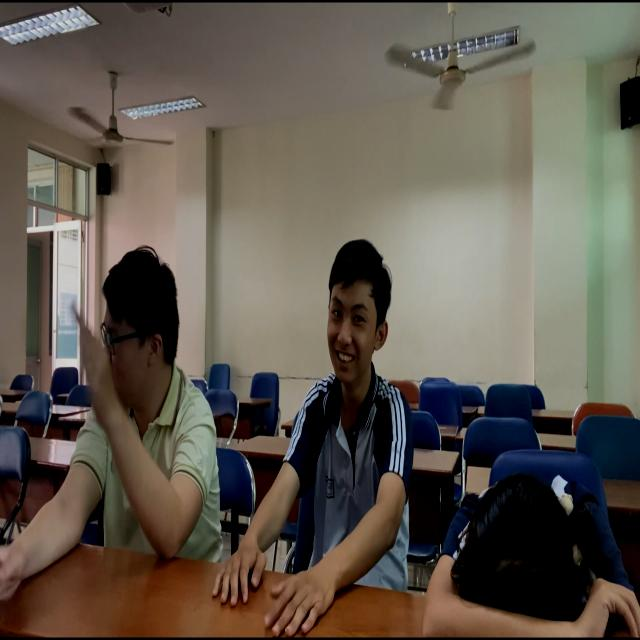sleep: (421, 460, 635, 640)
